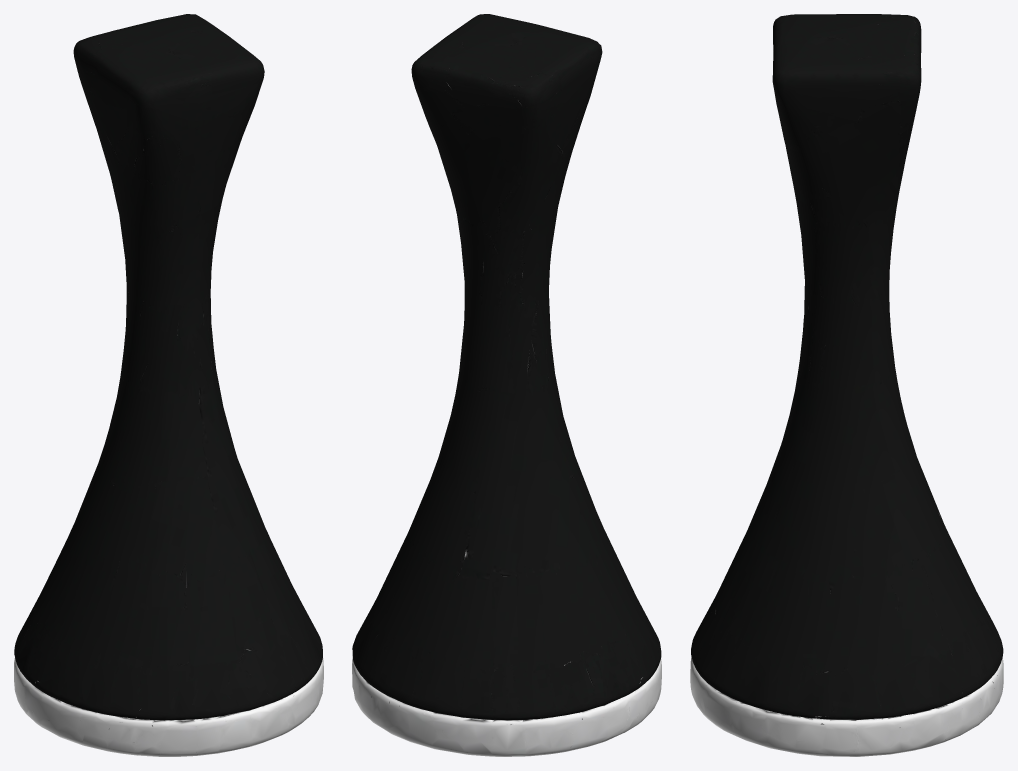
Rendered from queen-black.glb.
3 renders of one model, left to right at view 1: azimuth 30°, elevation 25°; view 2: azimuth 150°, elevation 25°; view 3: azimuth 270°, elevation 25°, orthographic.
Bounding box in the file's own units: 0.7137 × 1.65 × 0.7141.
Materials: 1 (1 with a texture image).
